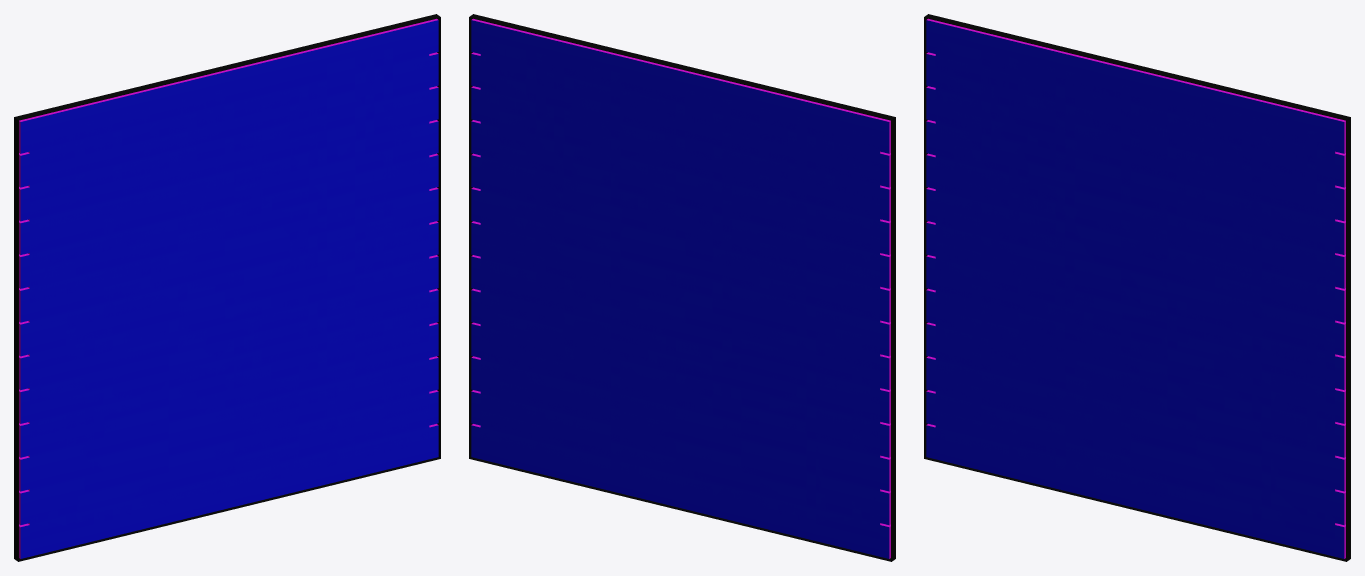
The model's file is WallFx_06.fbx.
3 views of the same model, side by side, from view 1: azimuth 30°, elevation 25°; view 2: azimuth 150°, elevation 25°; view 3: azimuth 330°, elevation 25° (orthographic).
Parts seen in each view (by area): view 1: Out_Mesh; view 2: Out_Mesh; view 3: Out_Mesh.
Part boxes in pixels (x1,y1,x2,y2): Out_Mesh: (14, 14, 440, 561); Out_Mesh: (469, 14, 895, 561); Out_Mesh: (924, 14, 1350, 561).
Bounding box in the file's own units: 56.72 × 56.64 × 1.
